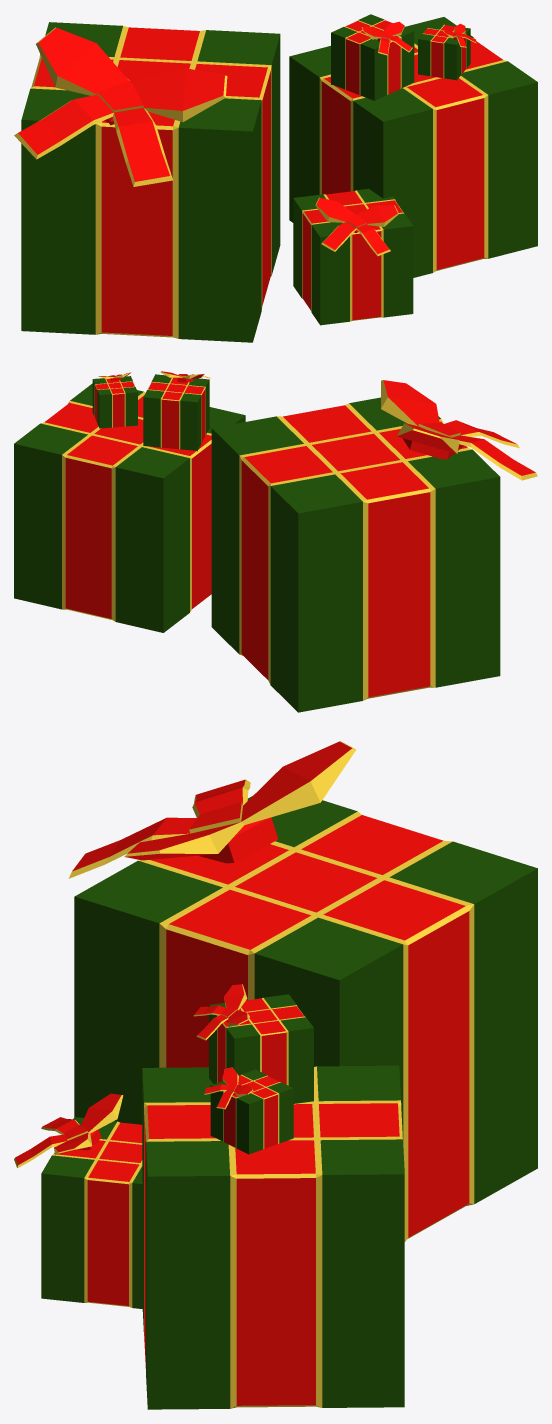
File: christmax_presents.fbx
3 renders of one model, top to bottom at view 1: azimuth 30°, elevation 25°; view 2: azimuth 150°, elevation 25°; view 3: azimuth 270°, elevation 25°, orthographic. The views are drawn at different scales.
Parts seen in each view (by area): view 1: Cadeaux.002, Cadeaux.004, Cadeaux.001, Cadeaux.003, Cadeaux.005; view 2: Cadeaux.002, Cadeaux.004, Cadeaux.003, Cadeaux.005; view 3: Cadeaux.002, Cadeaux.004, Cadeaux.001, Cadeaux.003, Cadeaux.005.
Part boxes in pixels (x1,y1,x2,y2): Cadeaux.002: (14,22,280,342); Cadeaux.004: (289,17,537,277); Cadeaux.001: (293,188,413,325); Cadeaux.003: (331,14,414,100); Cadeaux.005: (418,22,476,80); Cadeaux.002: (211,380,537,712); Cadeaux.004: (14,383,245,632); Cadeaux.003: (143,371,211,451); Cadeaux.005: (92,372,137,428); Cadeaux.002: (68,741,537,1241); Cadeaux.004: (142,1065,404,1409); Cadeaux.001: (14,1093,142,1308); Cadeaux.003: (193,984,313,1103); Cadeaux.005: (204,1067,293,1154).
Size of the model in its own units: 5.54 by 2.9 by 3.63.
Materials: 1 (1 with a texture image).
